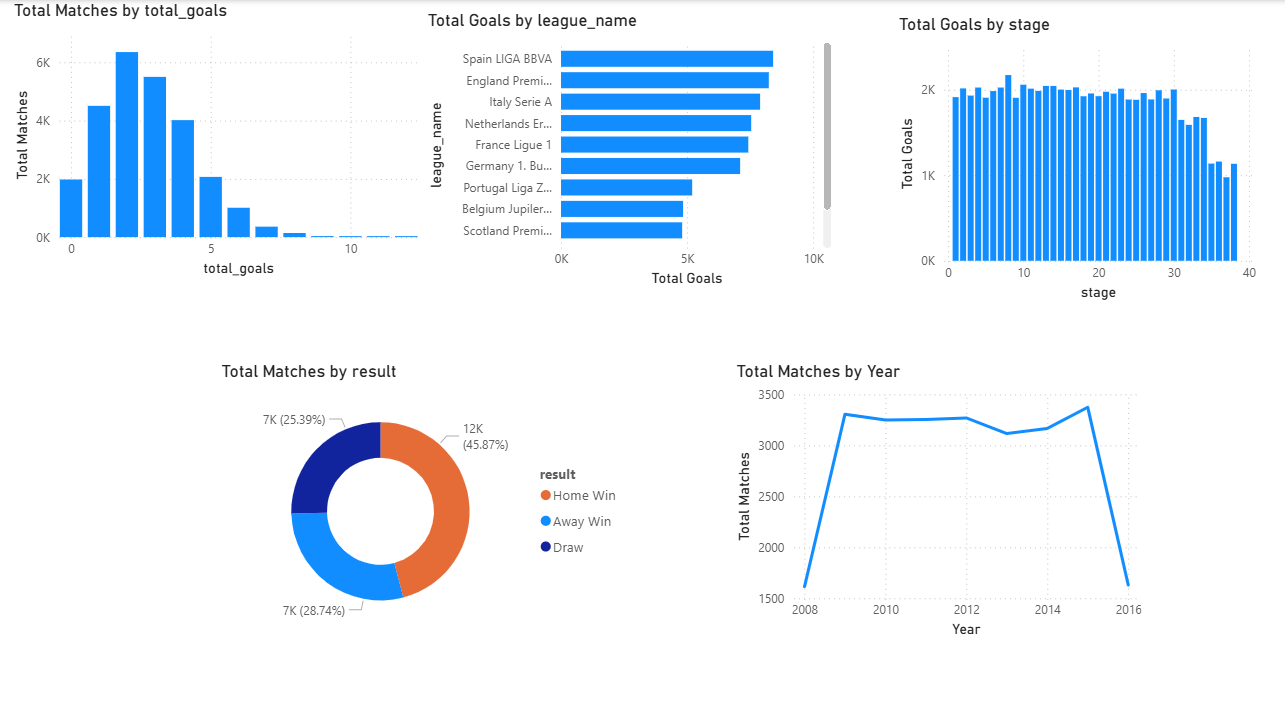

Layout of this report page (visuals, bound fields, positions):
{"tool":"powerbi","page":{"name":"Match Insights","canvas":[1280,720],"ordinal":2},"visuals":[{"type":"donutChart","fields":{"Category":["football_matches_cleaned.result"],"Y":["football_matches_cleaned.Total Matches"]},"box":[216.4,359.5,411.8,279.9],"z":1},{"type":"clusteredColumnChart","fields":{"Y":["football_matches_cleaned.Total Goals"],"Category":["football_matches_cleaned.stage"]},"box":[890.7,13.7,365.7,289.8],"z":2},{"type":"clusteredColumnChart","fields":{"Category":["football_matches_cleaned.total_goals"],"Y":["football_matches_cleaned.Total Matches"]},"box":[10,0,411.7,280],"z":3},{"type":"clusteredBarChart","fields":{"Y":["football_matches_cleaned.Total Goals"],"Category":["football_matches_cleaned.league_name"]},"box":[421.7,10,411.8,279.9],"z":4},{"type":"lineChart","fields":{"Category":["football_matches_cleaned.date.Variation.Date Hierarchy.Year","football_matches_cleaned.date.Variation.Date Hierarchy.Quarter","football_matches_cleaned.date.Variation.Date Hierarchy.Month","football_matches_cleaned.date.Variation.Date Hierarchy.Day"],"Y":["football_matches_cleaned.Total Matches"]},"box":[729,359.5,413,279.9],"z":5}]}

Visuals, with their boxes in screenshot pixels (x1, y1, x2, y2), scaled from the page's 1280x720 canvas onto the 1285x723 screenshot:
donutChart - football_matches_cleaned.result x football_matches_cleaned.Total Matches: bbox=(217, 361, 631, 642)
clusteredColumnChart - football_matches_cleaned.Total Goals x football_matches_cleaned.stage: bbox=(894, 14, 1261, 305)
clusteredColumnChart - football_matches_cleaned.total_goals x football_matches_cleaned.Total Matches: bbox=(10, 0, 423, 281)
clusteredBarChart - football_matches_cleaned.Total Goals x football_matches_cleaned.league_name: bbox=(423, 10, 837, 291)
lineChart - football_matches_cleaned.date.Variation.Date Hierarchy.Year x football_matches_cleaned.date.Variation.Date Hierarchy.Quarter: bbox=(732, 361, 1146, 642)
